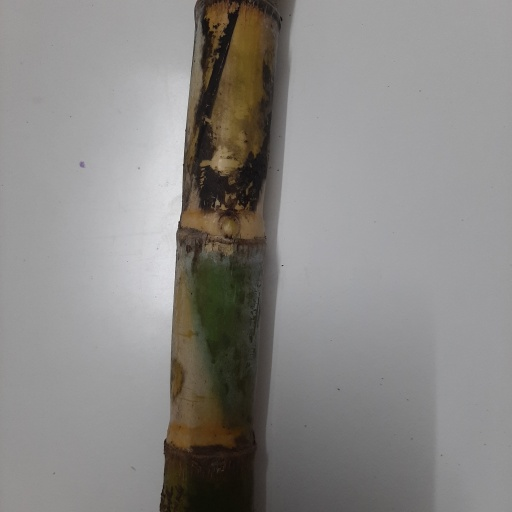Bud: (216, 211, 243, 243)
